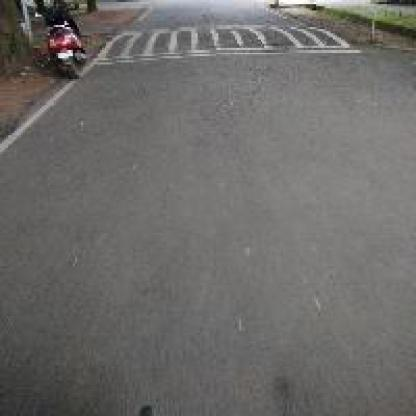Speed Bump: (89, 21, 364, 64)
